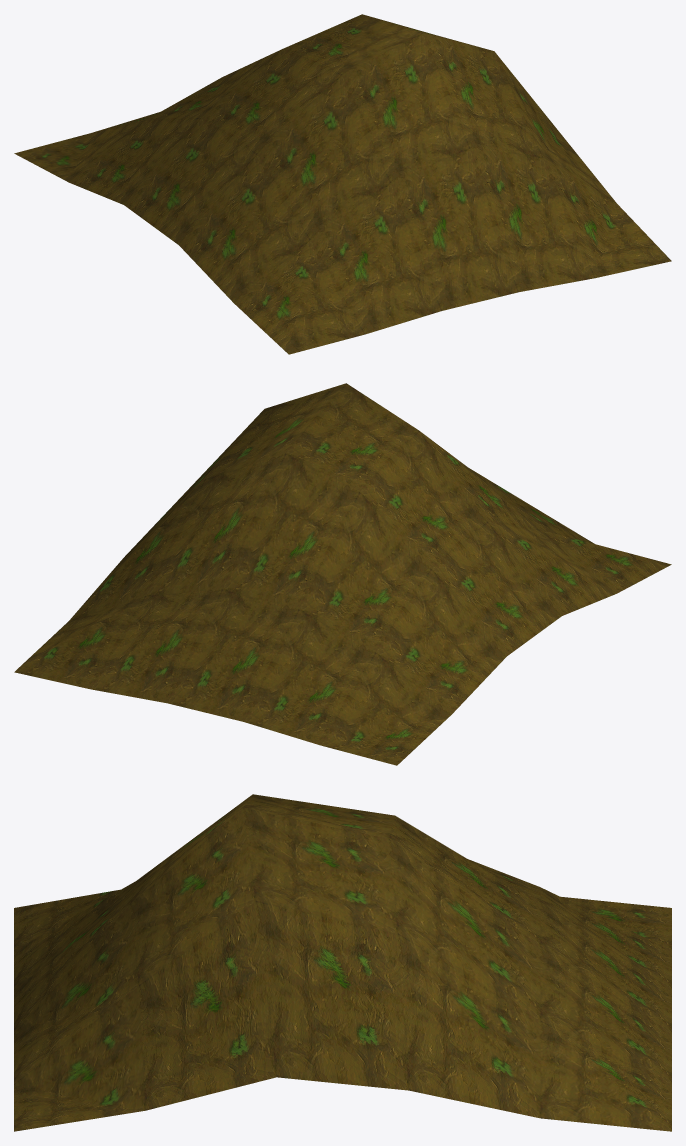
The model's file is MIRKWOOD_AREA4_BARRIERB.fbx.
3 renders of one model, top to bottom at view 1: azimuth 30°, elevation 25°; view 2: azimuth 150°, elevation 25°; view 3: azimuth 270°, elevation 25°, orthographic. The views are drawn at different scales.
Visible parts, largest first — view 1: MIRKWOOD_AREA4_BARRIERB; view 2: MIRKWOOD_AREA4_BARRIERB; view 3: MIRKWOOD_AREA4_BARRIERB.
Part boxes in pixels (<box>): MIRKWOOD_AREA4_BARRIERB: <box>14,14,671,354</box>; MIRKWOOD_AREA4_BARRIERB: <box>14,383,671,765</box>; MIRKWOOD_AREA4_BARRIERB: <box>14,794,671,1131</box>.
Size of the model in its own units: 412549 by 200975 by 512805.
1 material, 1 textured.
